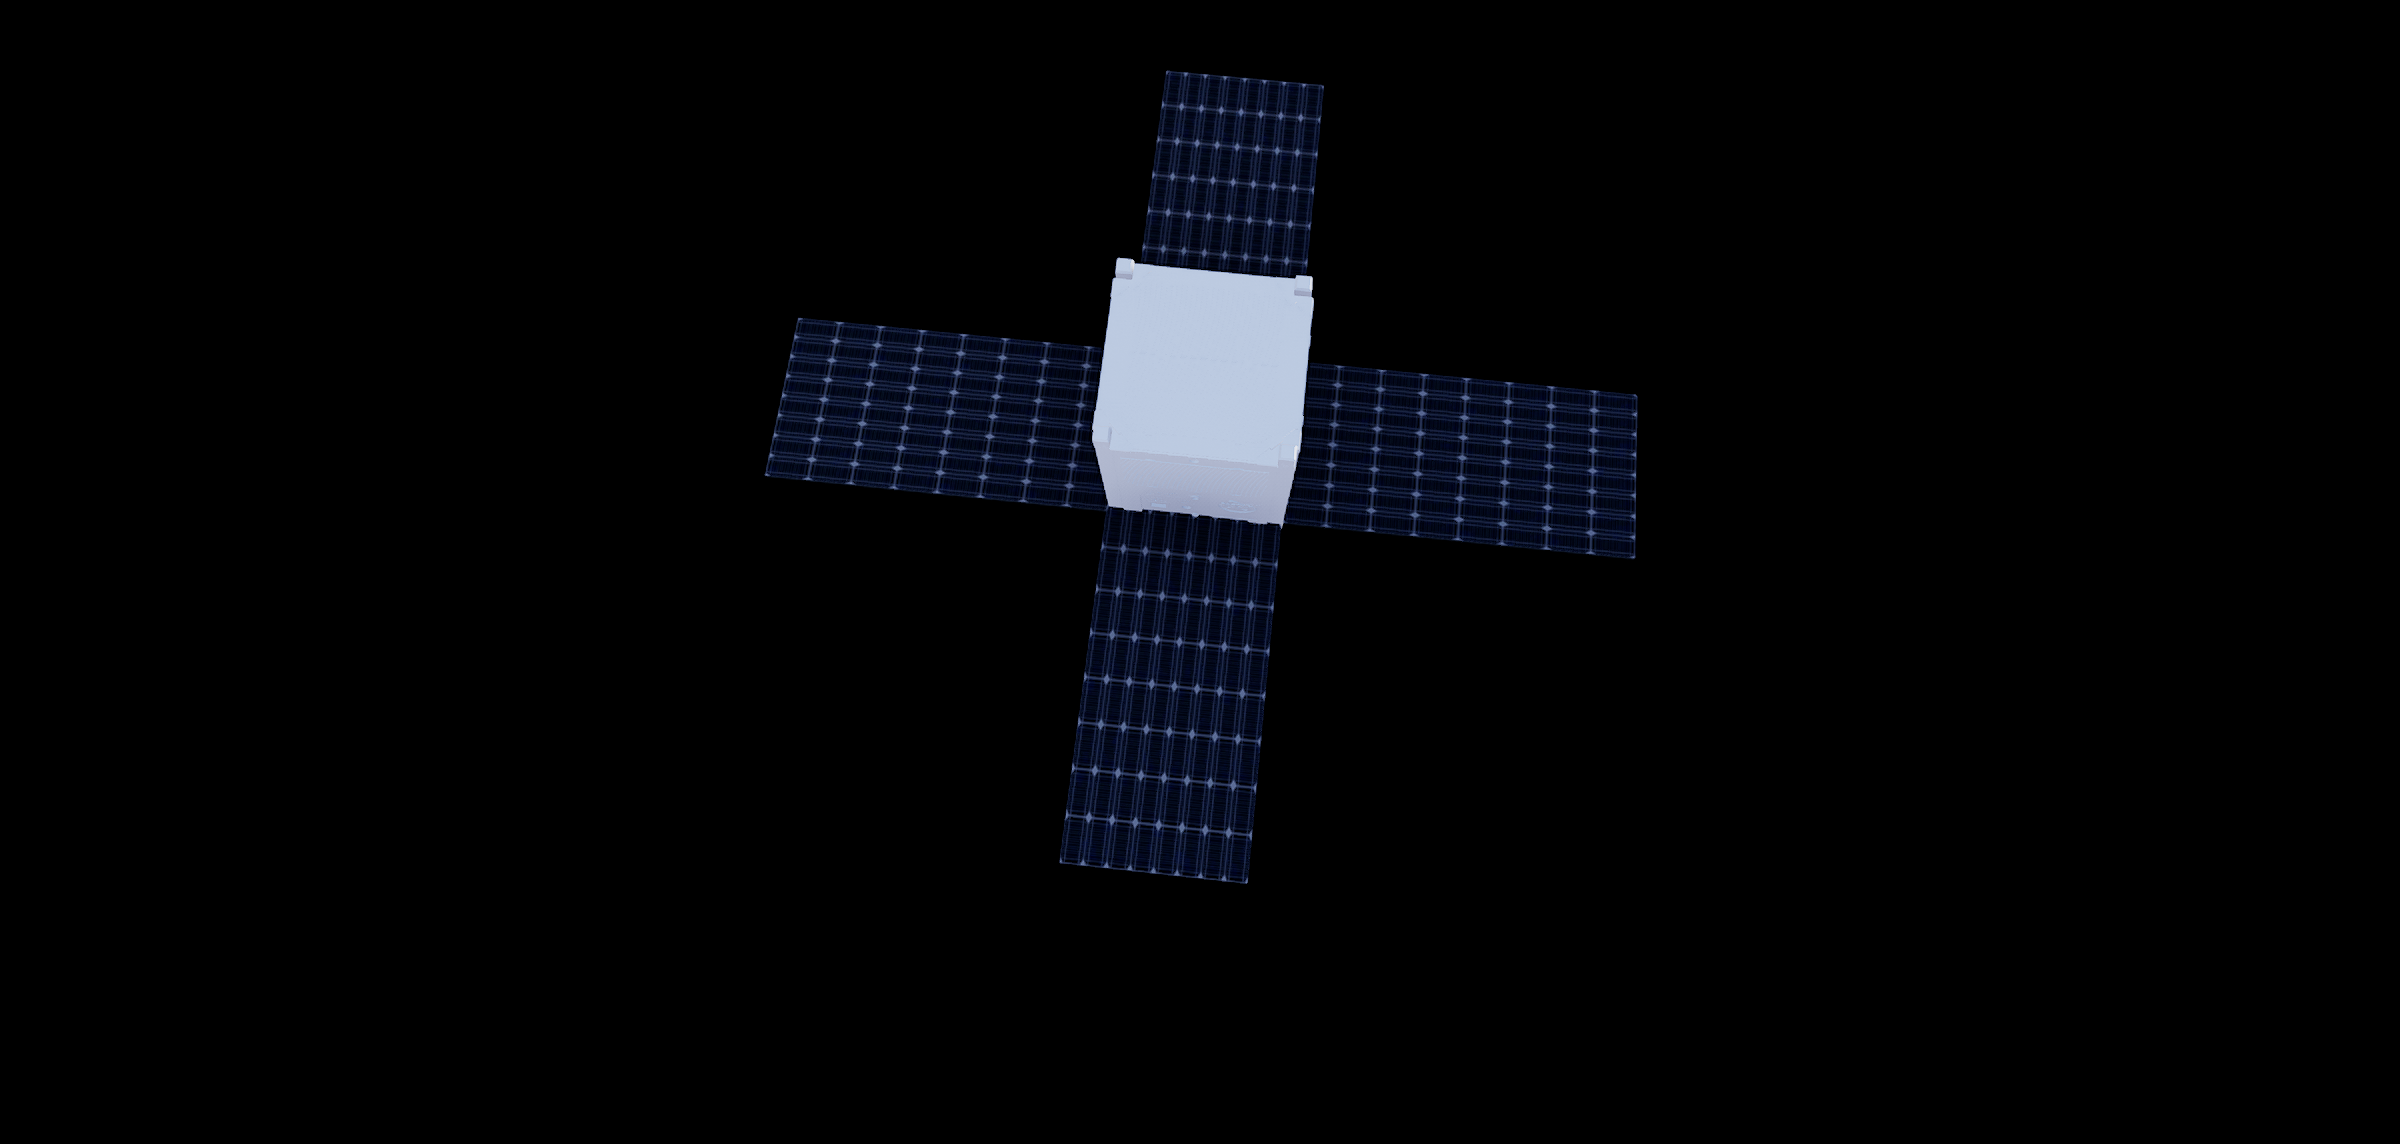satellite: (742, 58, 1659, 923)
